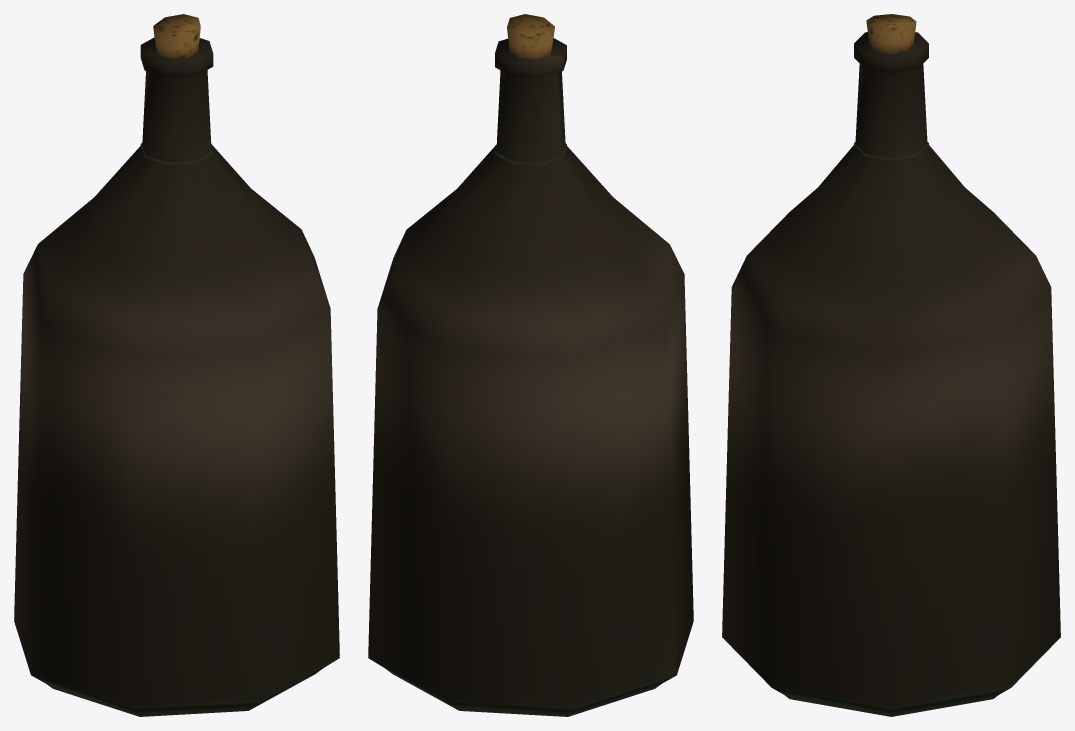
File: SM_Cluster_Kitchen_03.fbx
The picture shows the model from 3 angles, left to right: view 1: azimuth 30°, elevation 25°; view 2: azimuth 150°, elevation 25°; view 3: azimuth 270°, elevation 25°; orthographic projection.
Parts seen in each view (by area): view 1: Bottle_Huge_Cork_Low, Bottle_Huge_Low; view 2: Bottle_Huge_Cork_Low, Bottle_Huge_Low; view 3: Bottle_Huge_Cork_Low, Bottle_Huge_Low.
Boxes of the visible parts, x1=… form: Bottle_Huge_Cork_Low: x1=14, y1=14, x2=339, y2=716; Bottle_Huge_Low: x1=14, y1=143, x2=339, y2=713; Bottle_Huge_Cork_Low: x1=368, y1=14, x2=693, y2=716; Bottle_Huge_Low: x1=368, y1=143, x2=693, y2=713; Bottle_Huge_Cork_Low: x1=722, y1=14, x2=1060, y2=716; Bottle_Huge_Low: x1=722, y1=142, x2=1060, y2=713.
Size of the model in its own units: 31.27 by 65.03 by 31.27.
